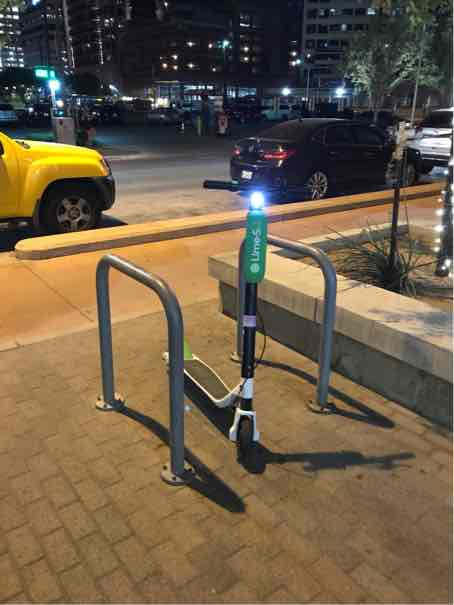scooter: (184, 138, 319, 485)
